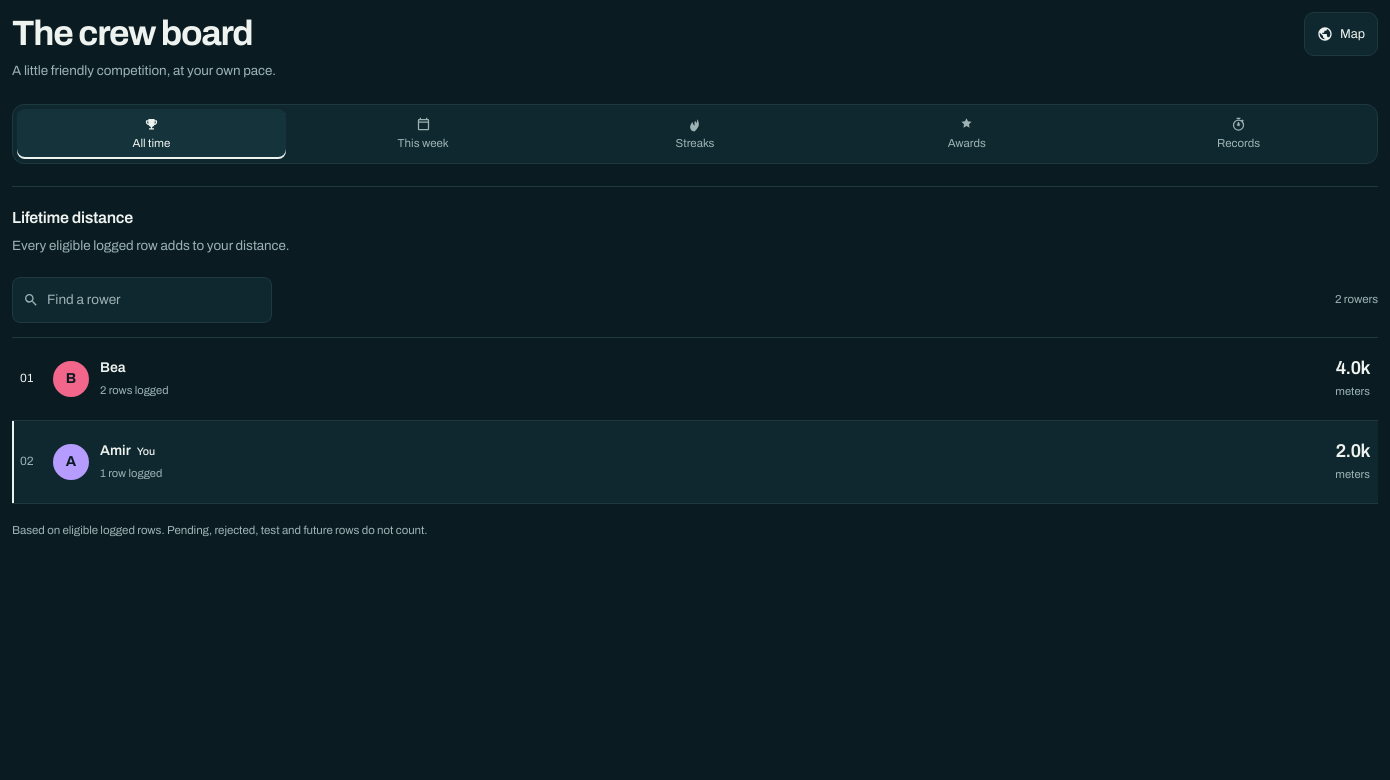
Test: search trims whitespace and preserves the actual place; clear search restores the board
Type "  AMIR " into the search field with placeholder "Find a rower" at (154,300), box x1=47 y1=278 x2=261 y2=322
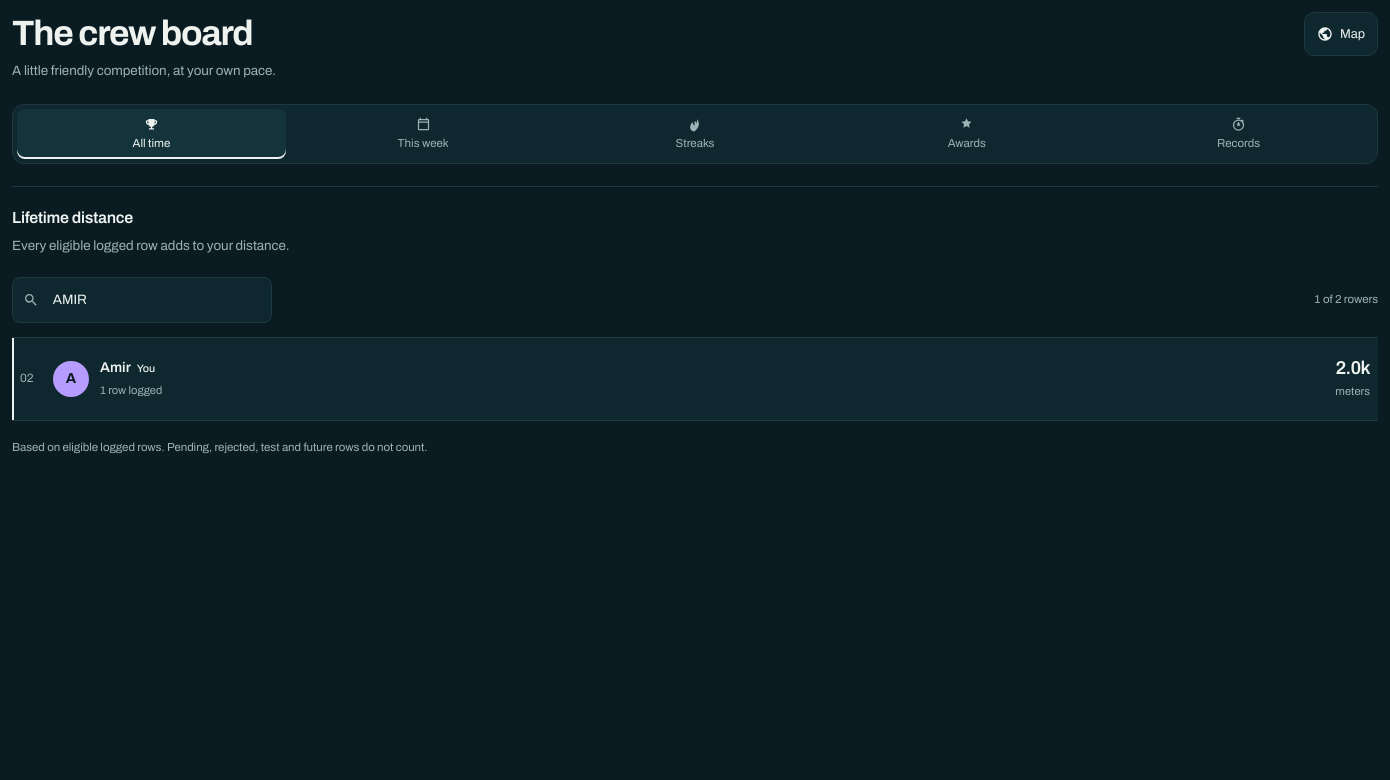
Expected: the text with class "crew-board-place" reads "02", x1=20 y1=371 x2=34 y2=385
Result: the number of buttons with class "crew-board-row" is 1 at x1=12 y1=338 x2=1378 y2=420
Result: the message "1 of 2 rowers" is shown at x1=1314 y1=290 x2=1378 y2=309
Replace the text in the search field with "No match" at (154,300), box x1=47 y1=278 x2=261 y2=322
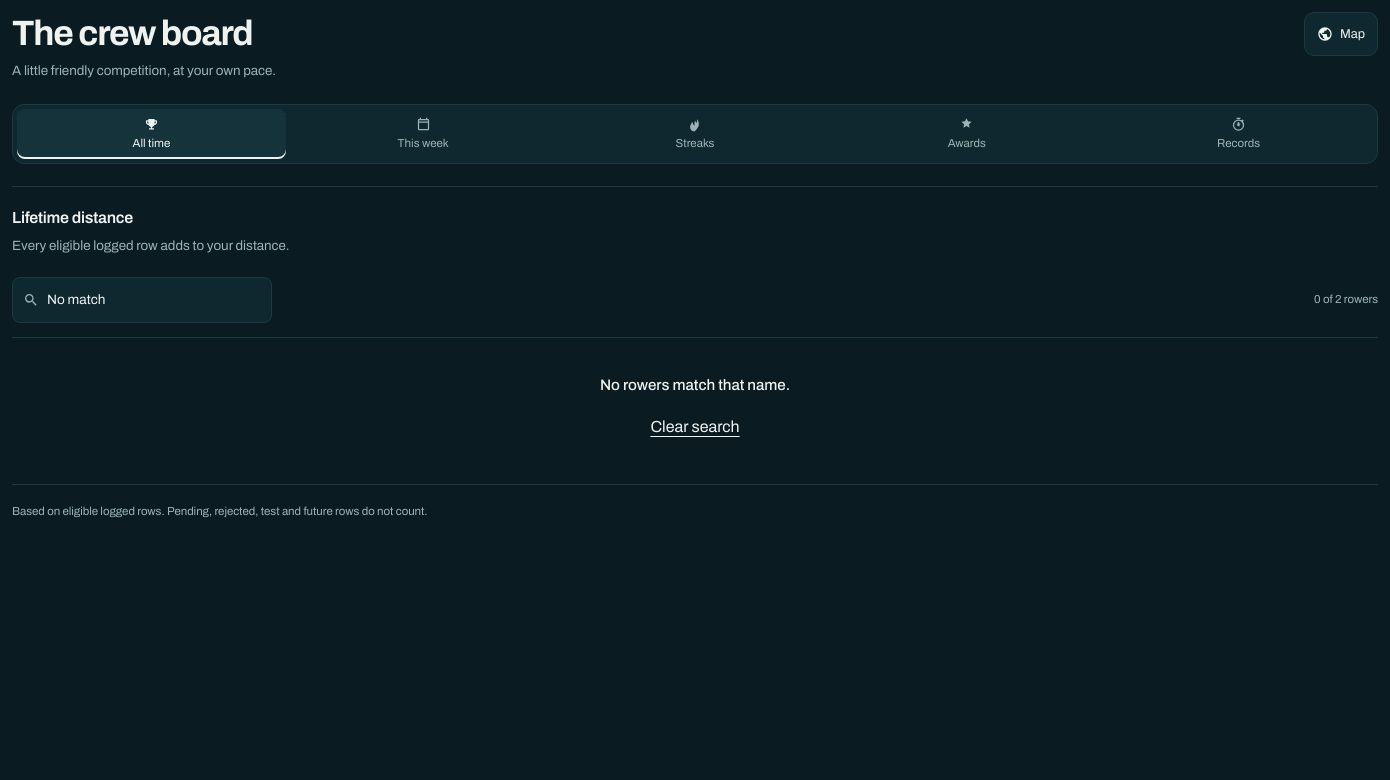
Result: the text "No rowers match that name" is shown at x1=600 y1=377 x2=790 y2=393
Click the button "Clear search" at (695,427), box x1=650 y1=405 x2=740 y2=449
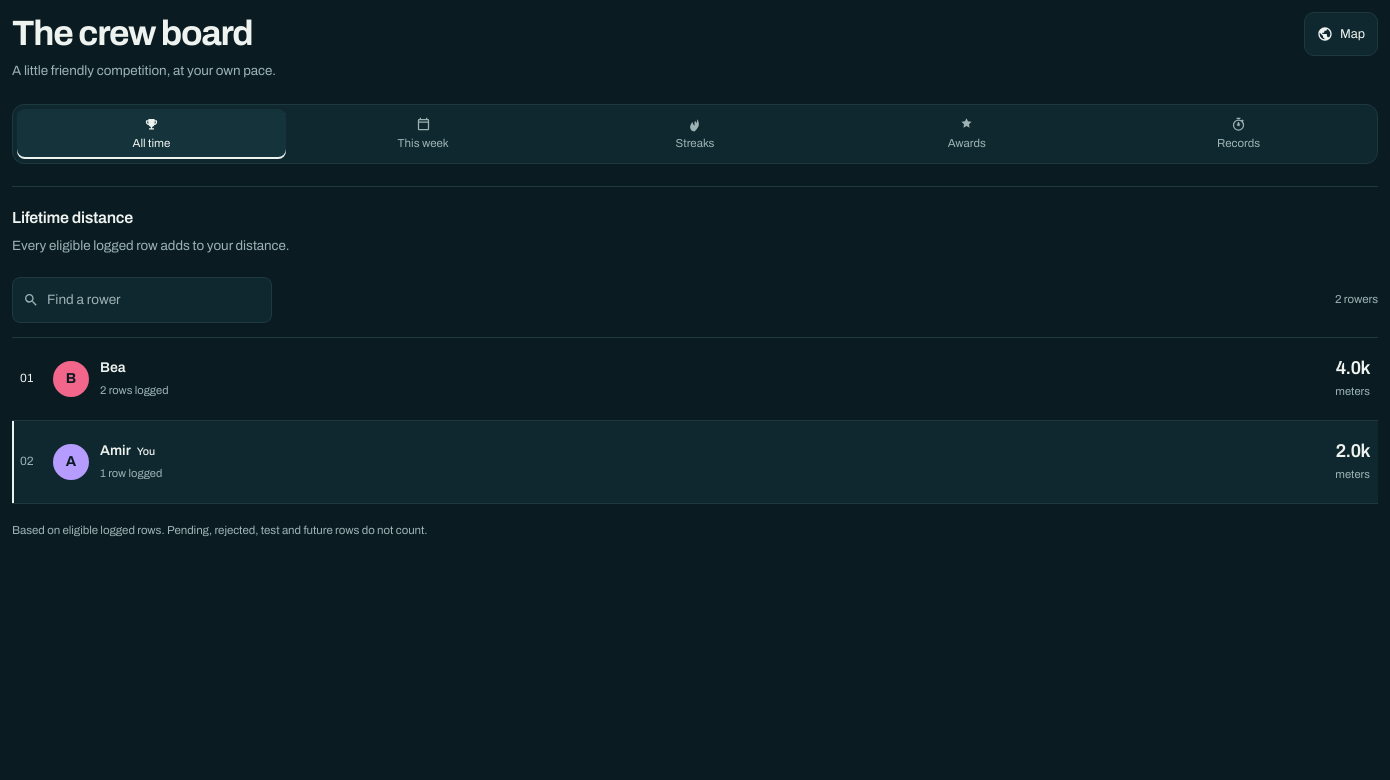
Result: the number of buttons with class "crew-board-row" is 2 at x1=12 y1=338 x2=1378 y2=420; x1=12 y1=421 x2=1378 y2=503
